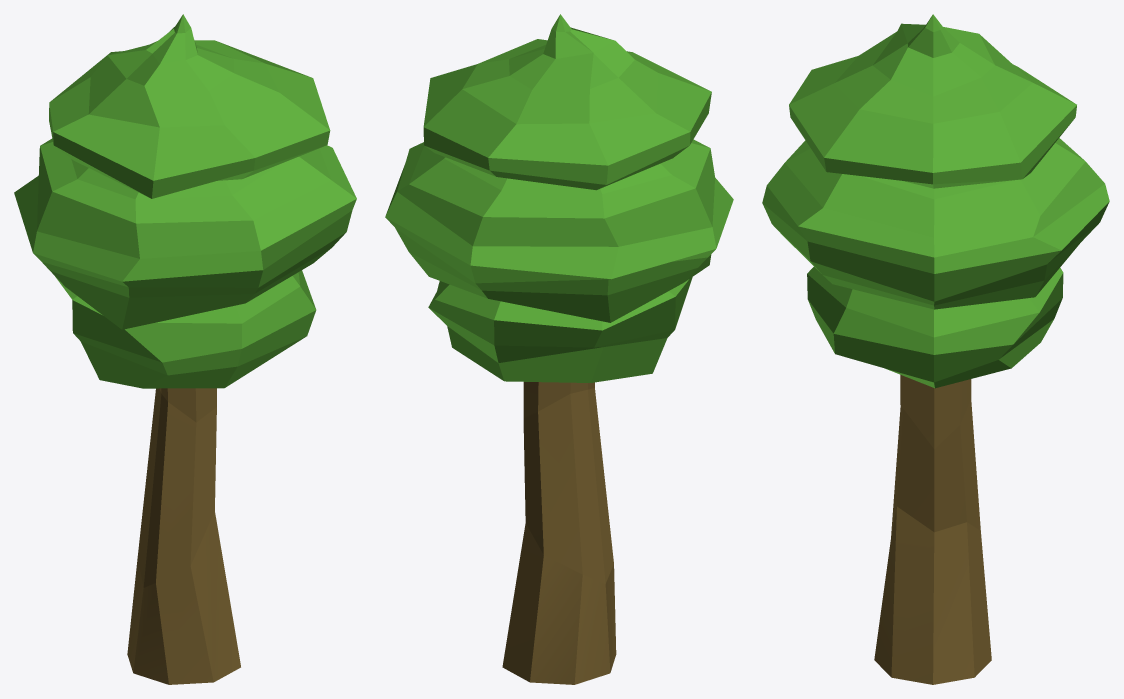
The model's file is smallsinglecentered.glb.
3 views of the same model, side by side, from view 1: azimuth 30°, elevation 25°; view 2: azimuth 150°, elevation 25°; view 3: azimuth 270°, elevation 25° (orthographic).
Visible parts, largest first — view 1: Circle.007_Material.019_0; view 2: Circle.007_Material.019_0; view 3: Circle.007_Material.019_0.
Part boxes in pixels (x1,y1,x2,y2): Circle.007_Material.019_0: [14, 14, 356, 684]; Circle.007_Material.019_0: [385, 14, 733, 684]; Circle.007_Material.019_0: [762, 14, 1109, 684].
Bounding box in the file's own units: 509 × 1028 × 500.
